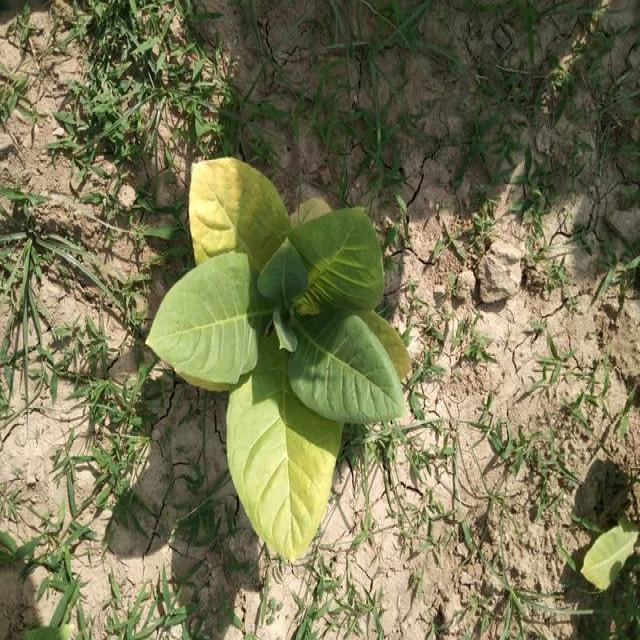crop: (146, 142, 420, 599)
